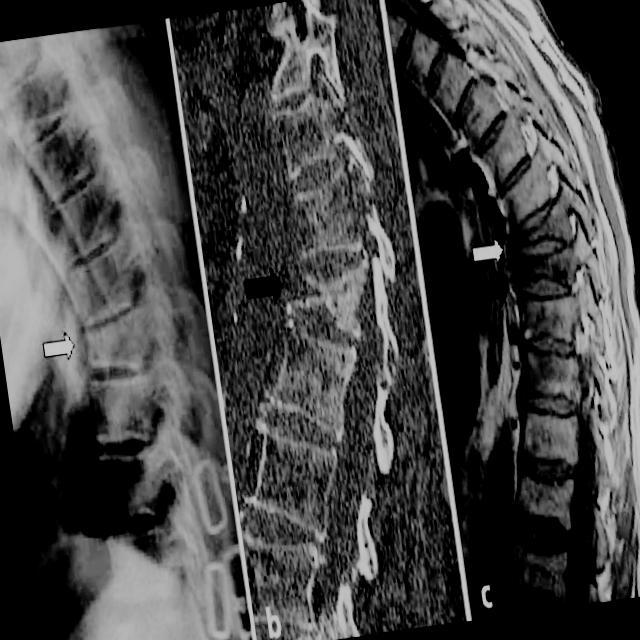Compression-Crush Fracutre: (291, 255, 373, 330), (495, 216, 578, 256)
